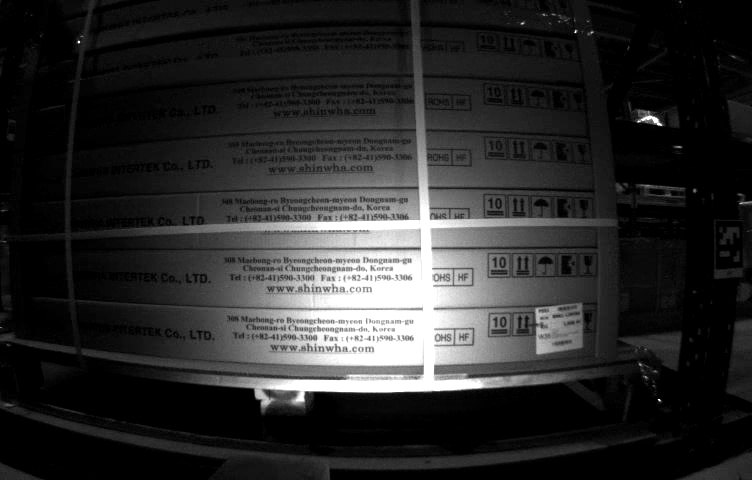True Barcode: (536, 303, 583, 349)
